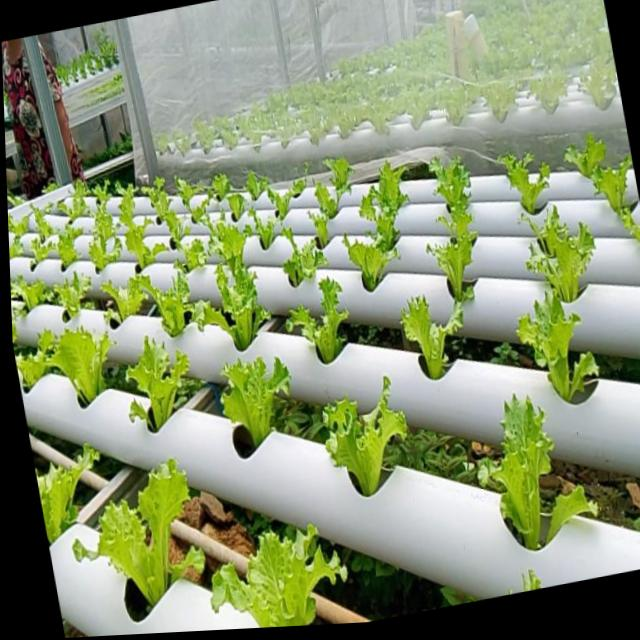Baby: (69, 456, 201, 602), (207, 524, 343, 628), (476, 394, 549, 549), (320, 376, 405, 496), (513, 290, 594, 402), (425, 159, 475, 311), (217, 358, 288, 458), (522, 207, 591, 303), (123, 337, 187, 432), (45, 323, 112, 404), (284, 278, 346, 364), (127, 267, 202, 338), (399, 296, 460, 380), (358, 163, 405, 251), (585, 157, 634, 230), (265, 229, 324, 288), (340, 237, 397, 293), (496, 154, 547, 215), (86, 187, 119, 273), (206, 215, 250, 276), (55, 181, 87, 221), (54, 224, 79, 267), (29, 207, 52, 243), (179, 238, 204, 271), (184, 196, 207, 226)
